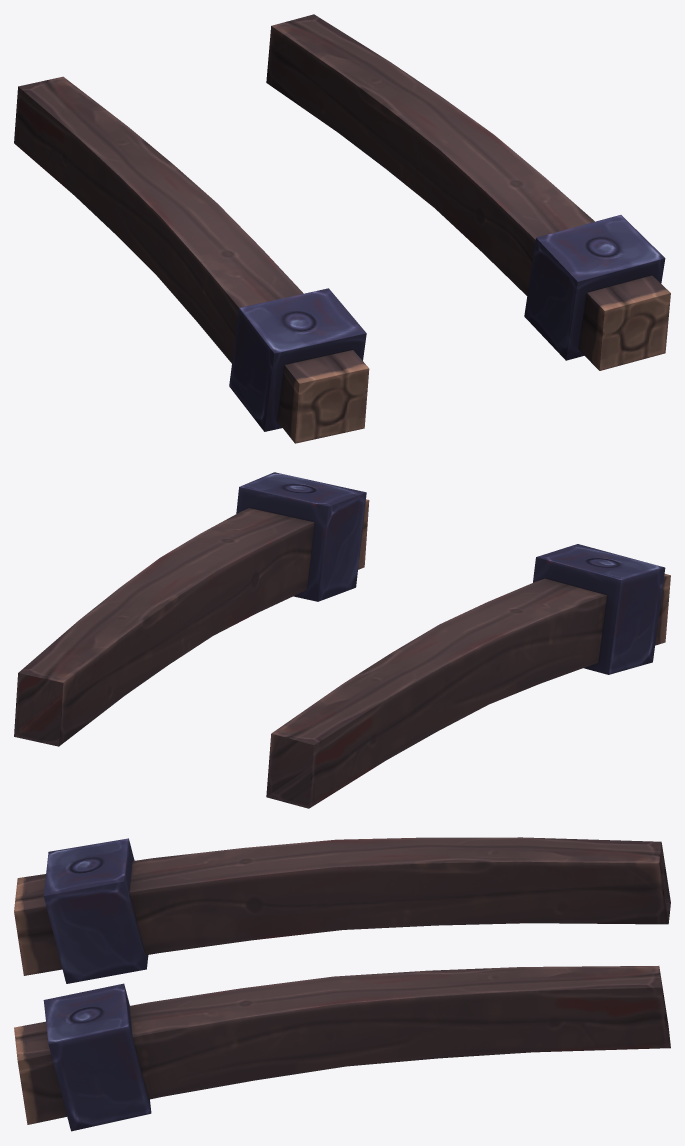
File: caravan_part_01.fbx
The picture shows the model from 3 angles, top to bottom: view 1: azimuth 30°, elevation 25°; view 2: azimuth 150°, elevation 25°; view 3: azimuth 270°, elevation 25°; orthographic projection.
Visible parts, largest first — view 1: caravan_part_01; view 2: caravan_part_01; view 3: caravan_part_01.
Boxes of the visible parts, x1,y1,x2,y2 form: caravan_part_01: [14, 14, 670, 443]; caravan_part_01: [14, 472, 670, 808]; caravan_part_01: [14, 837, 670, 1131].
Size of the model in its own units: 1.44 by 0.4235 by 2.08.
